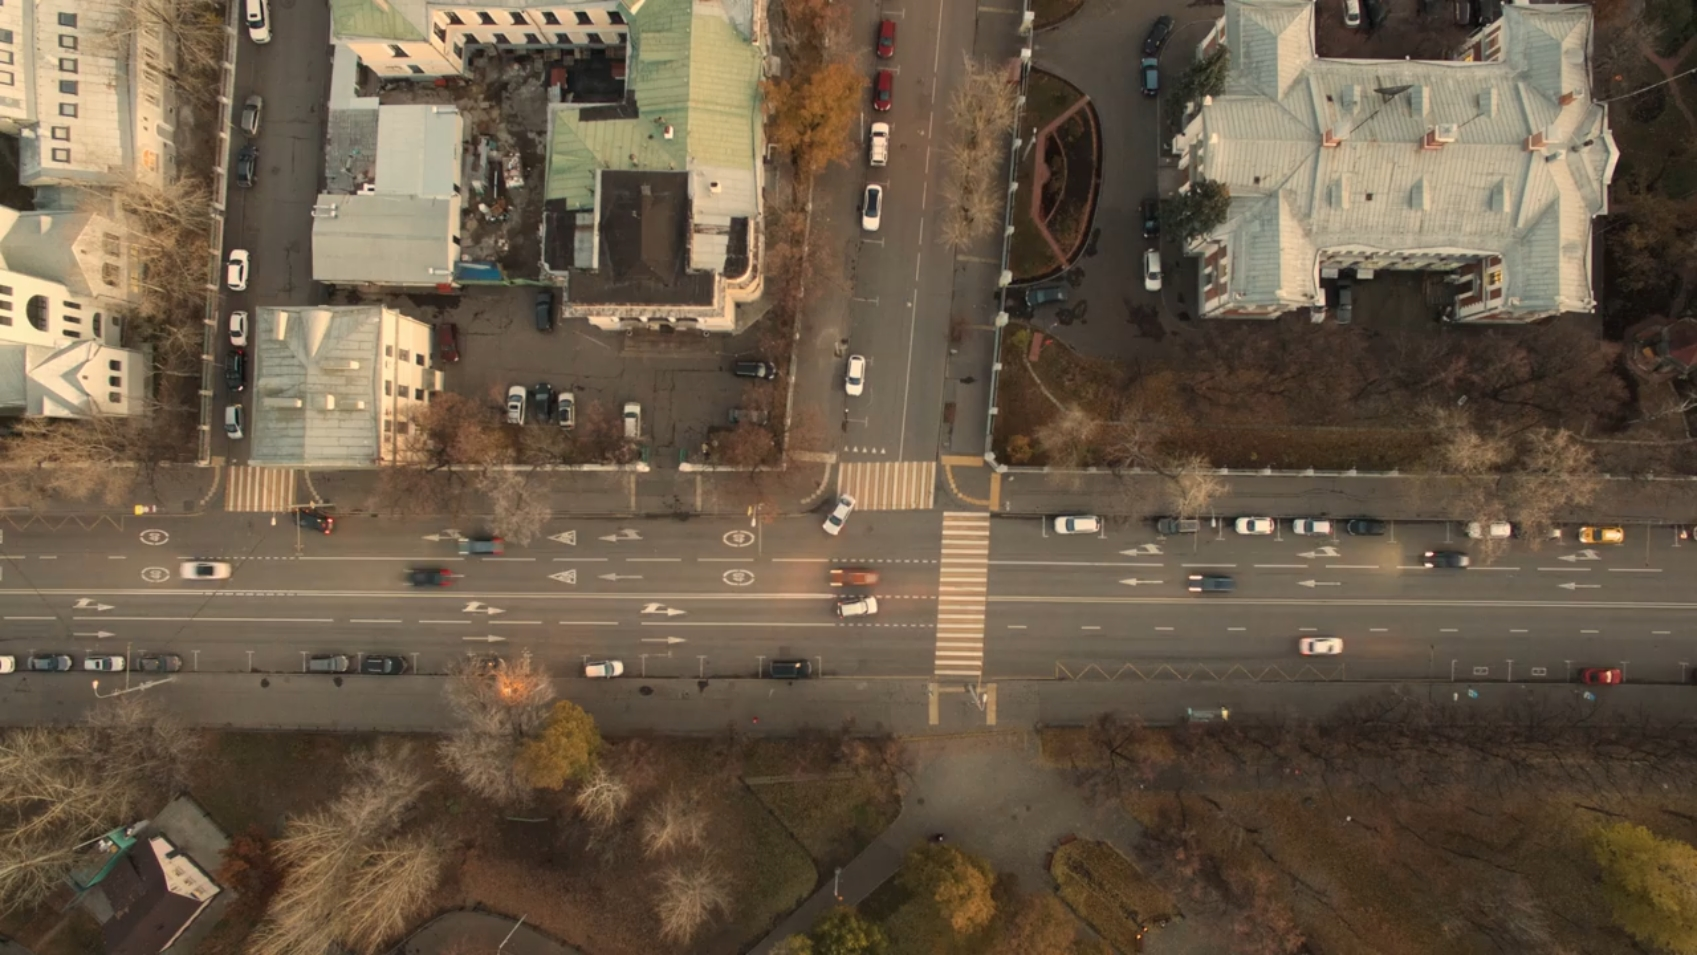car: (290, 503, 340, 539), (1135, 15, 1177, 55), (832, 590, 882, 623), (821, 494, 855, 540), (1183, 571, 1239, 598), (235, 90, 265, 140), (1048, 513, 1110, 536), (860, 183, 887, 236), (1140, 247, 1167, 299), (358, 655, 414, 680), (504, 382, 531, 431), (617, 395, 645, 444), (1019, 285, 1073, 309), (869, 66, 897, 114), (221, 347, 248, 396), (826, 566, 882, 589), (1139, 196, 1166, 243), (226, 247, 254, 292), (1136, 55, 1166, 97), (303, 649, 352, 674), (175, 559, 232, 580), (403, 566, 455, 589), (554, 388, 579, 435), (244, 1, 273, 42), (136, 649, 184, 674), (533, 381, 555, 434), (28, 651, 77, 674), (732, 357, 779, 381), (438, 319, 464, 364), (1154, 517, 1207, 538), (221, 403, 249, 443), (238, 143, 260, 192), (874, 15, 899, 59), (530, 292, 556, 333), (1233, 514, 1279, 538), (80, 653, 128, 675), (452, 536, 508, 555), (1421, 552, 1473, 571), (1297, 634, 1344, 656), (1293, 515, 1335, 540), (767, 658, 816, 679), (843, 354, 867, 396), (1464, 521, 1514, 541), (1335, 282, 1356, 326), (1577, 526, 1626, 545), (583, 658, 624, 680), (725, 405, 770, 424), (228, 308, 251, 347), (1580, 665, 1624, 684), (868, 122, 888, 166), (1347, 518, 1389, 538), (1314, 282, 1326, 326), (1, 655, 19, 674)
